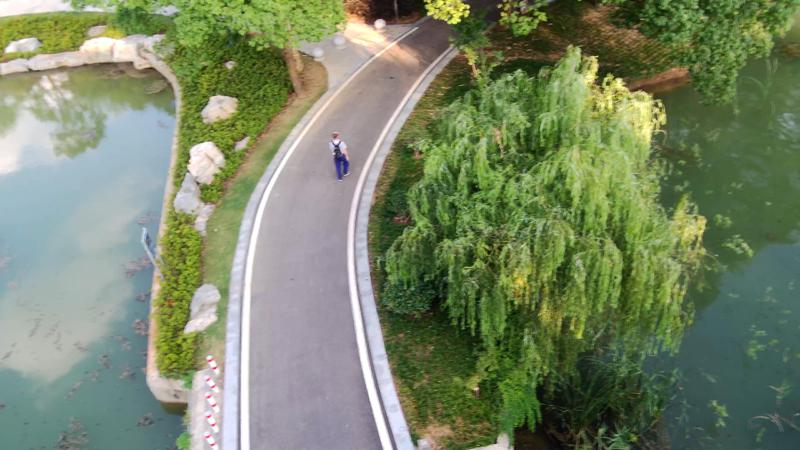passerby: (327, 129, 352, 182)
